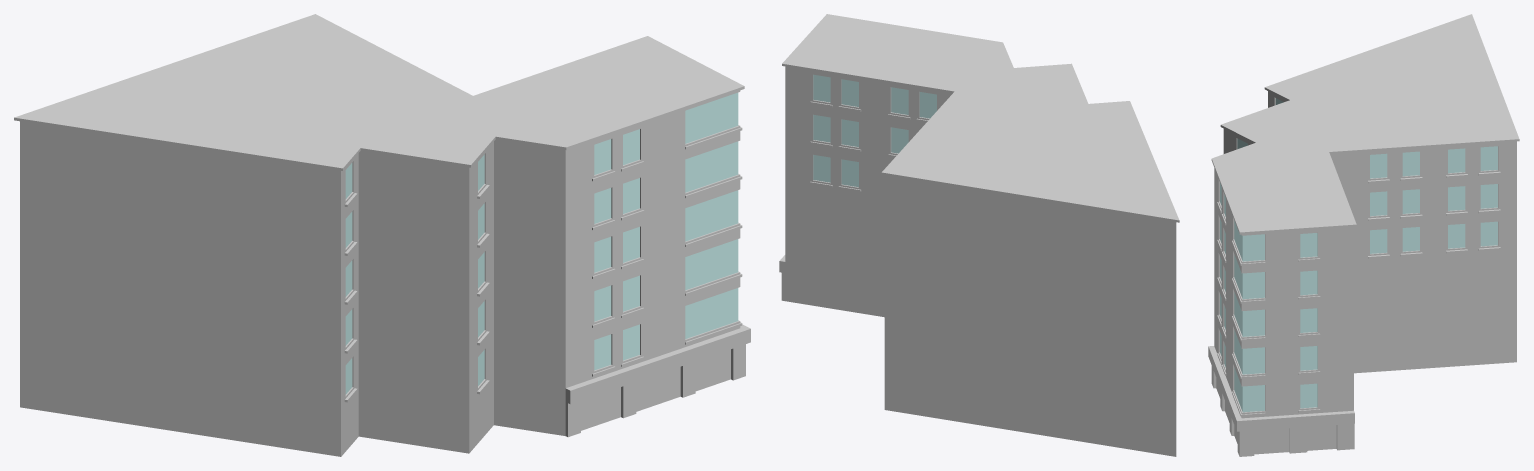
The model's file is 住宅2 英文版.fbx.
3 renders of one model, left to right at view 1: azimuth 30°, elevation 25°; view 2: azimuth 150°, elevation 25°; view 3: azimuth 270°, elevation 25°, orthographic. The views are drawn at different scales.
Parts seen in each view (by area): view 1: 物件_4, 物件_36, 物件_68, 物件_44, 物件_42, 物件_43, 物件_62, 物件_66, 物件_30, 物件_67; view 2: 物件_4, 物件_52, 物件_53, 物件_54, 物件_55, 物件_50, 物件_51, 物件_61, 物件_56; view 3: 物件_4, 物件_36, 物件_44, 物件_43, 物件_62, 物件_68, 物件_42, 物件_3, 物件_5, 物件_6, 物件_1, 物件_63 (+17 smaller).
Boxes of the visible parts, left/top/right/bottom form: 物件_4: left=14, top=14, right=744, bottom=456; 物件_36: left=565, top=324, right=750, bottom=404; 物件_68: left=685, top=141, right=738, bottom=192; 物件_44: left=685, top=239, right=738, bottom=290; 物件_42: left=685, top=92, right=738, bottom=143; 物件_43: left=685, top=190, right=738, bottom=241; 物件_62: left=685, top=288, right=738, bottom=338; 物件_66: left=641, top=369, right=673, bottom=409; 物件_30: left=587, top=389, right=613, bottom=428; 物件_67: left=699, top=351, right=725, bottom=389; 物件_4: left=782, top=14, right=1179, bottom=456; 物件_52: left=841, top=159, right=858, bottom=187; 物件_53: left=813, top=155, right=830, bottom=182; 物件_54: left=813, top=114, right=830, bottom=142; 物件_55: left=813, top=74, right=830, bottom=102; 物件_50: left=841, top=79, right=858, bottom=106; 物件_51: left=841, top=119, right=858, bottom=146; 物件_61: left=891, top=87, right=908, bottom=114; 物件_56: left=919, top=92, right=936, bottom=118; 物件_4: left=1211, top=14, right=1519, bottom=454; 物件_36: left=1208, top=346, right=1354, bottom=431; 物件_44: left=1234, top=330, right=1264, bottom=374; 物件_43: left=1234, top=292, right=1264, bottom=336; 物件_62: left=1234, top=367, right=1264, bottom=412; 物件_68: left=1234, top=254, right=1264, bottom=299; 物件_42: left=1234, top=221, right=1264, bottom=261; 物件_3: left=1260, top=428, right=1282, bottom=453; 物件_5: left=1336, top=423, right=1354, bottom=450; 物件_6: left=1289, top=427, right=1307, bottom=453; 物件_1: left=1312, top=425, right=1331, bottom=450; 物件_63: left=1237, top=430, right=1254, bottom=456.
Bounding box in the file's own units: 44.7 × 26.69 × 21.2.
